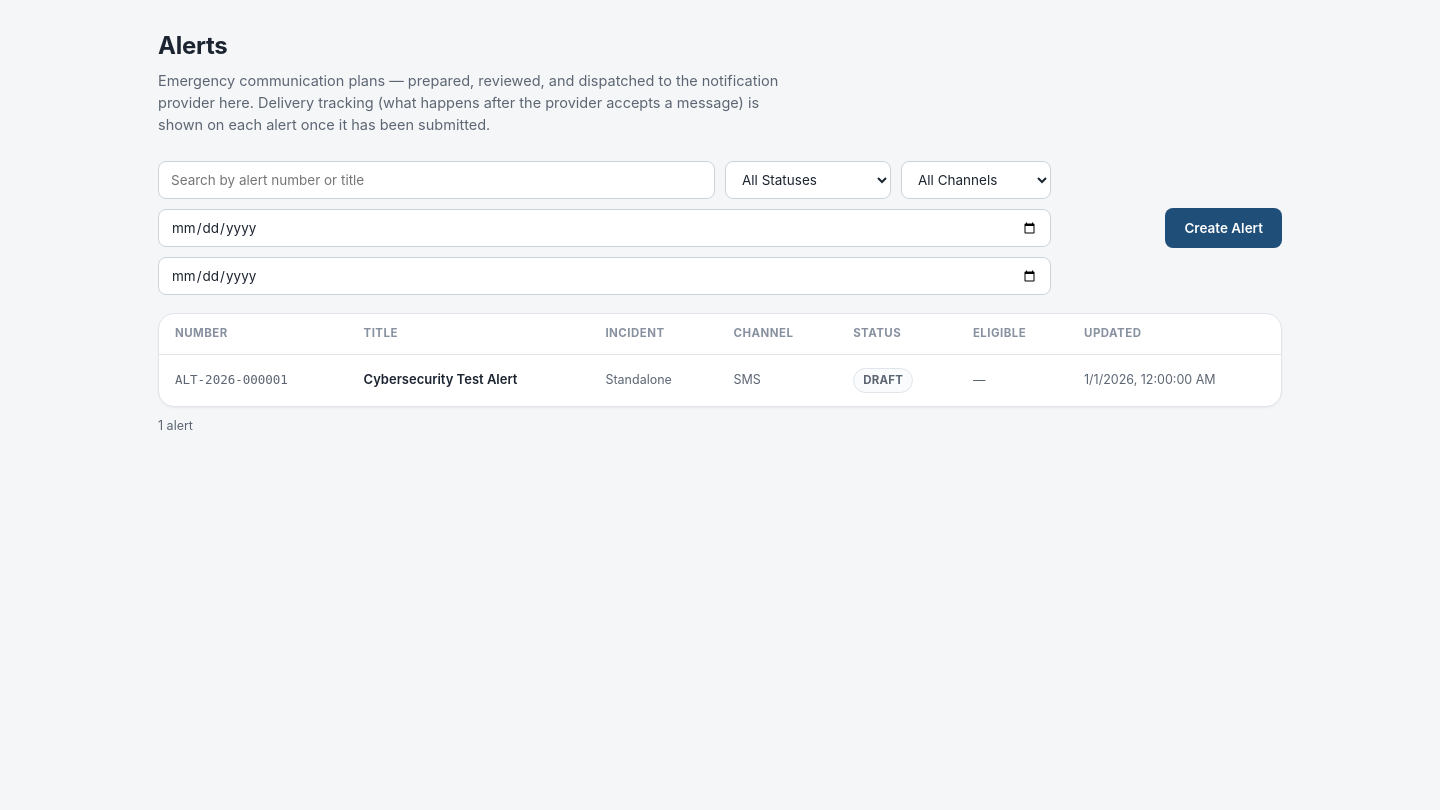
AlertsPage › shows a read-only READY banner once ready
The width and height of the screenshot is (1440, 810).
What coordinates should you click on to do the following:
click the text "Cybersecurity Test Alert"
I would click on:
 (468, 380)
Its box is left=348, top=354, right=589, bottom=406.
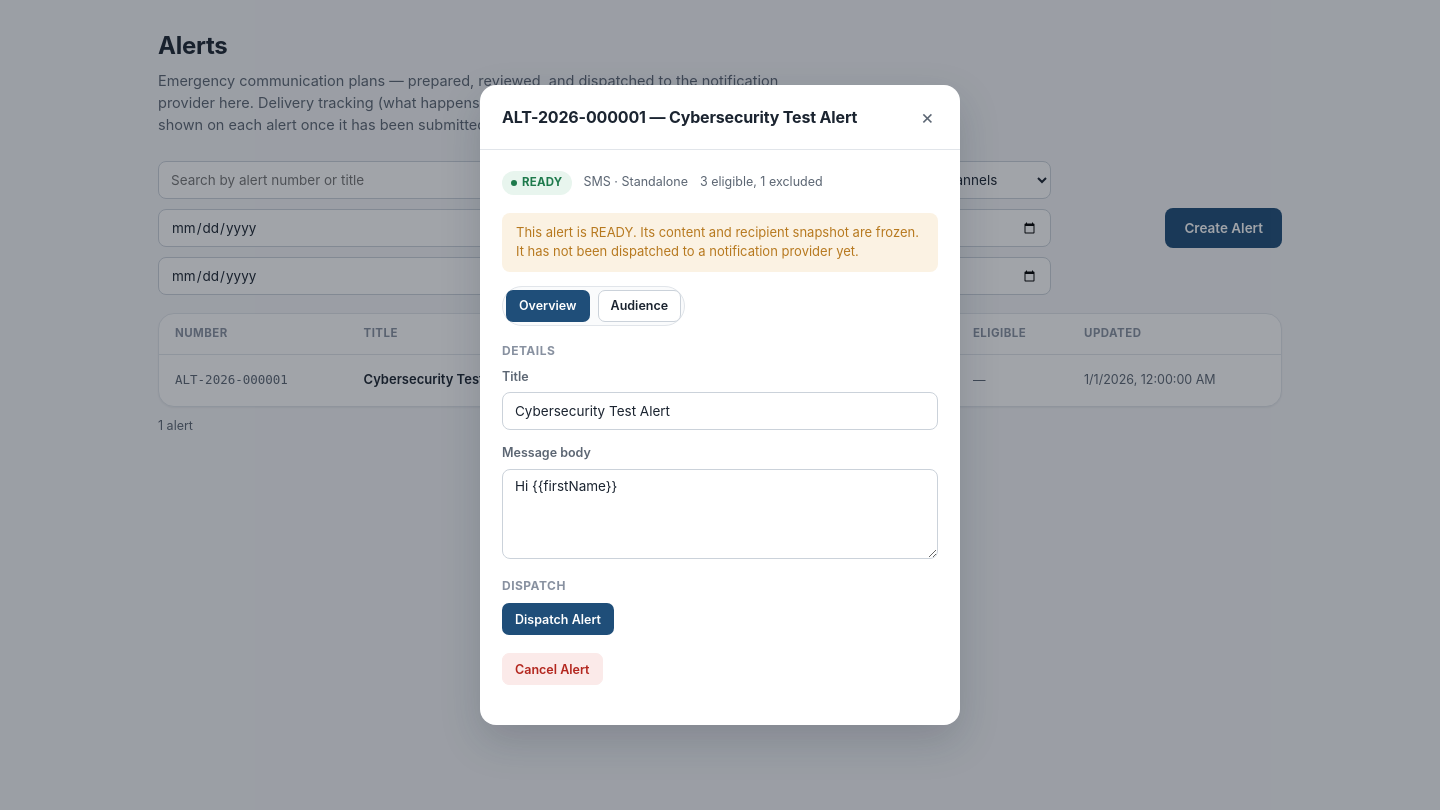
Expected: the text "This alert is READY" is shown, left=516, top=224, right=919, bottom=259
